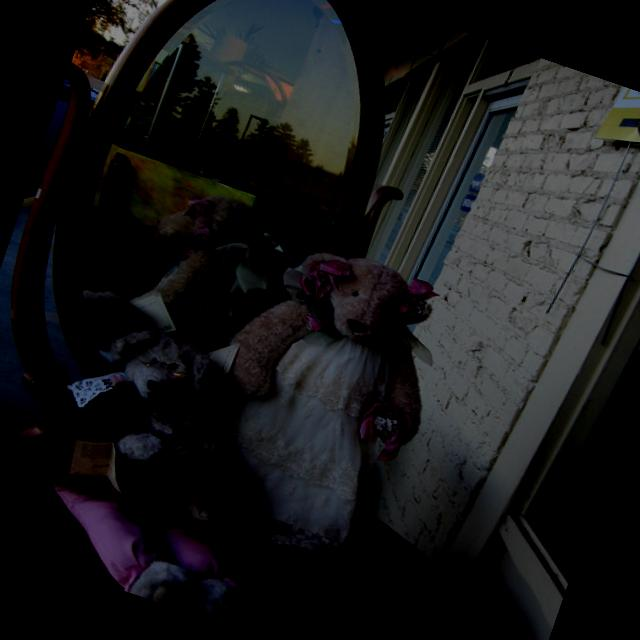Vehicle: (76, 74, 104, 108), (58, 69, 78, 100)
